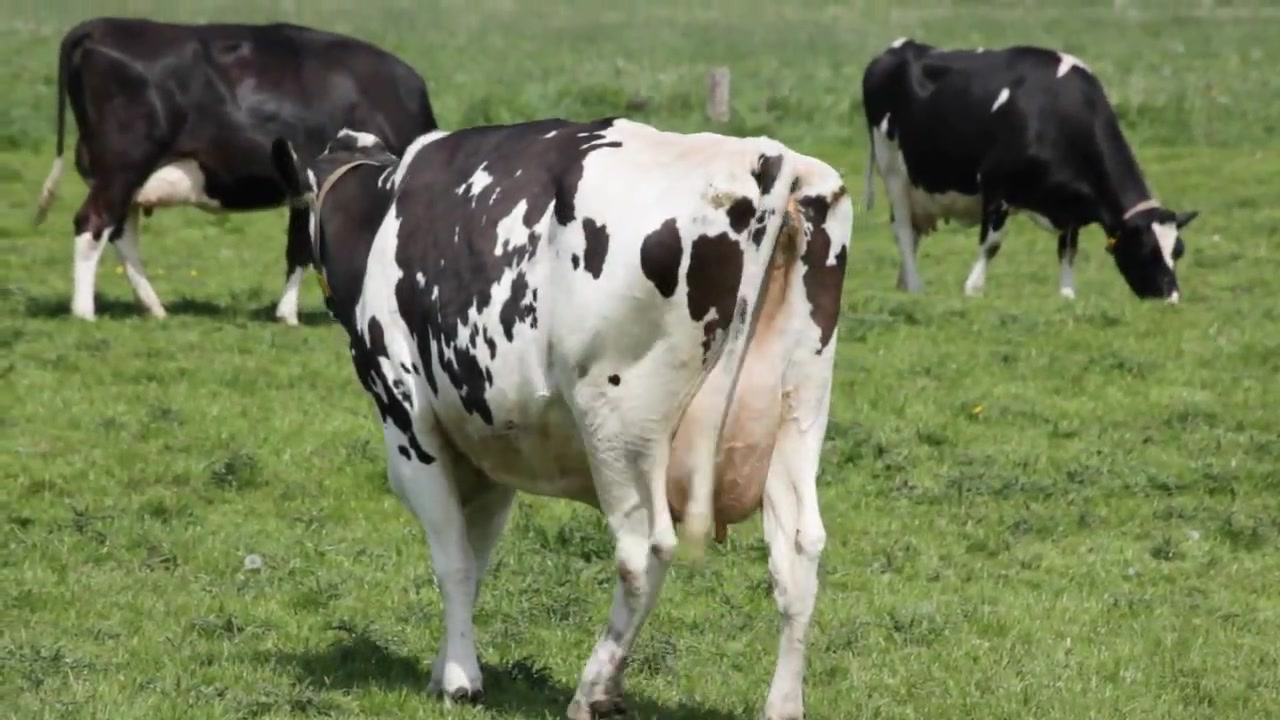cow: (270, 116, 856, 720)
